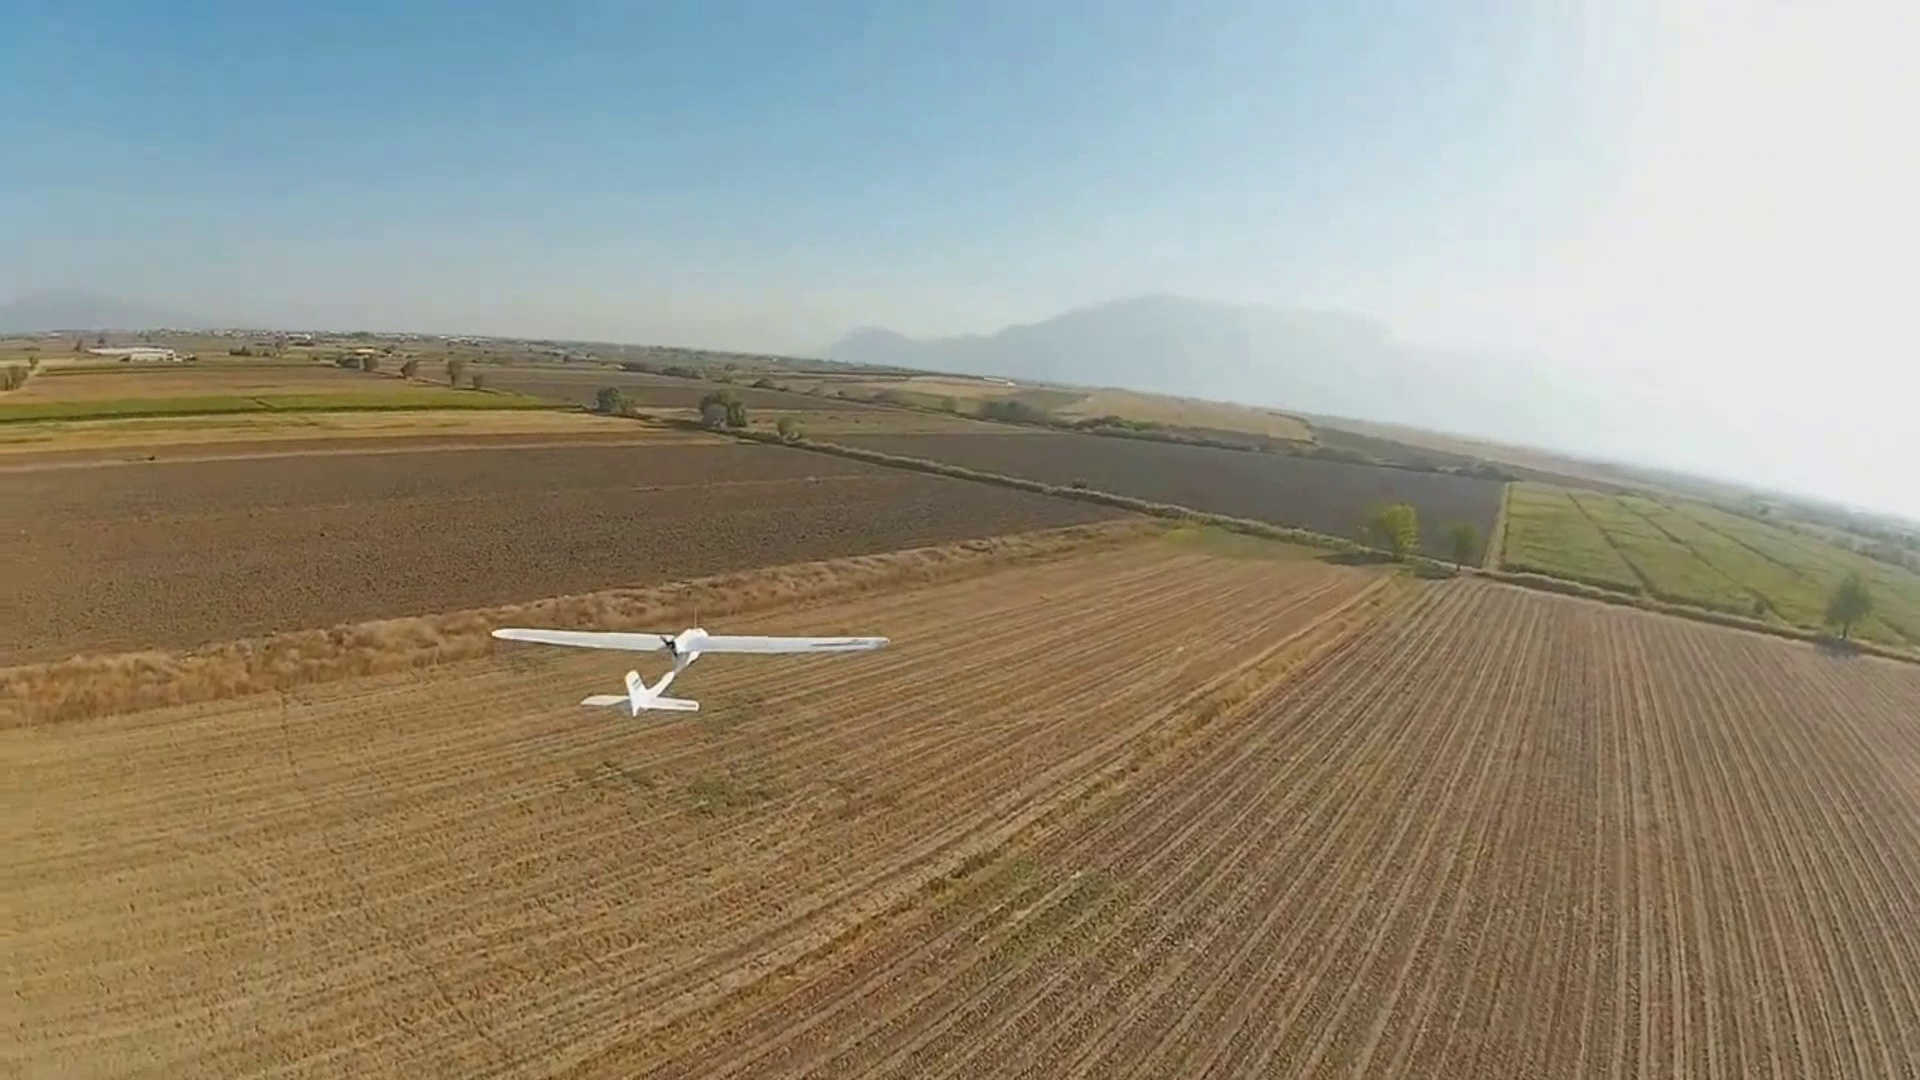airplane: (487, 617, 884, 715)
